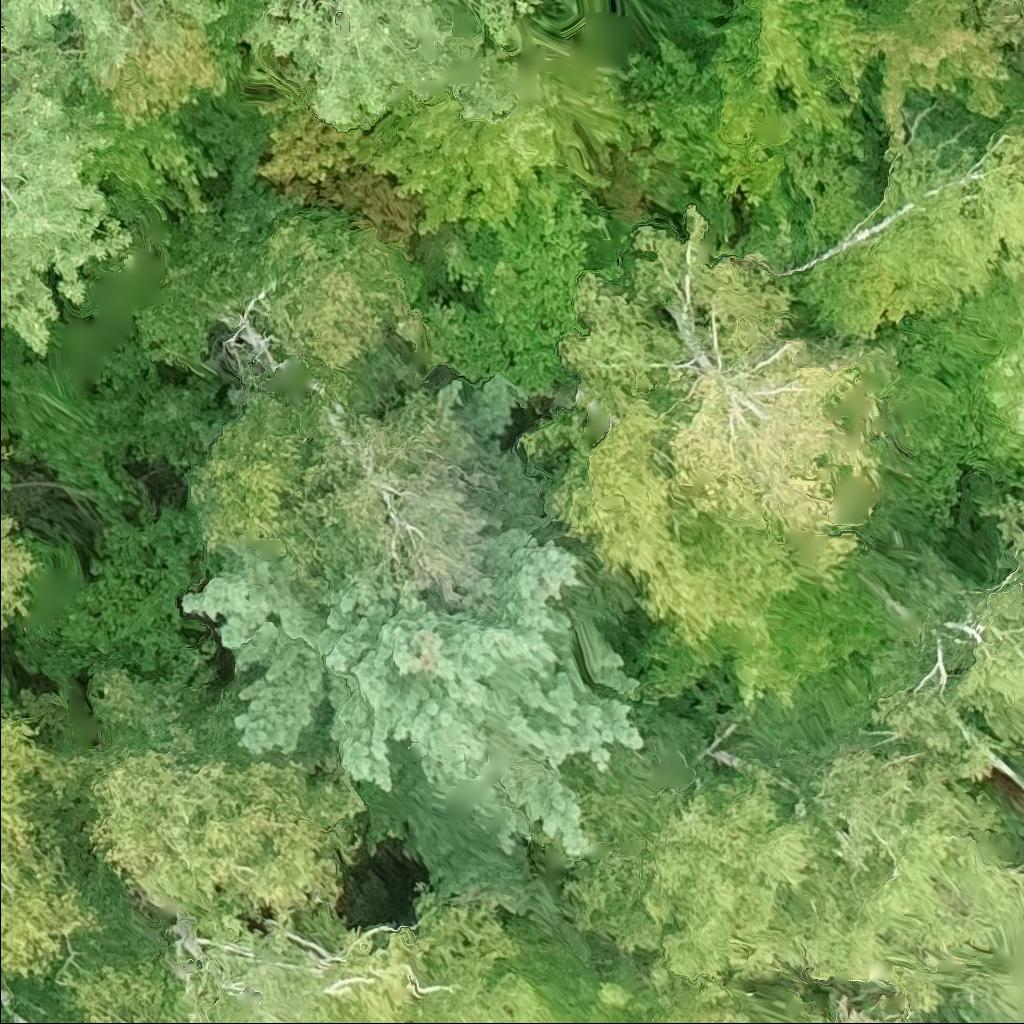crown: (180, 379, 649, 857), (74, 667, 368, 916), (0, 41, 137, 361), (236, 0, 537, 126), (0, 710, 106, 979), (0, 0, 235, 77), (0, 508, 46, 631), (0, 439, 18, 463)
